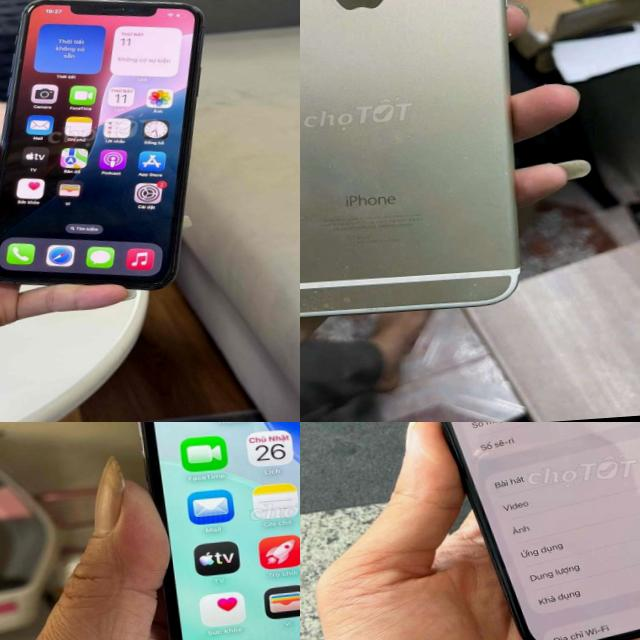gen_11: (0, 0, 203, 289)
gen_12_13: (113, 422, 300, 640)
gen_14: (393, 422, 640, 640)
gen_6: (300, 0, 544, 326)
